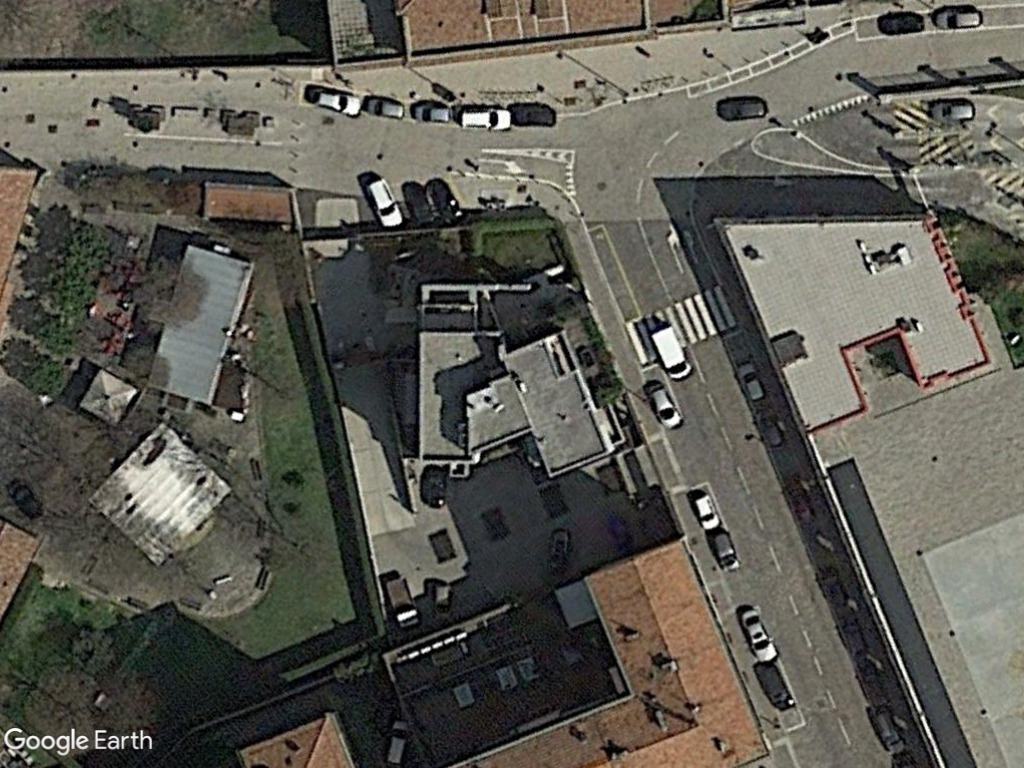car: (736, 604, 781, 665), (361, 175, 404, 231), (640, 381, 687, 432), (304, 83, 362, 121), (731, 355, 771, 406), (456, 101, 517, 134), (927, 2, 989, 33), (711, 93, 772, 122), (927, 96, 981, 125), (709, 526, 740, 576), (408, 95, 456, 127), (690, 489, 720, 532), (364, 95, 407, 122)
van: (646, 322, 696, 382)
